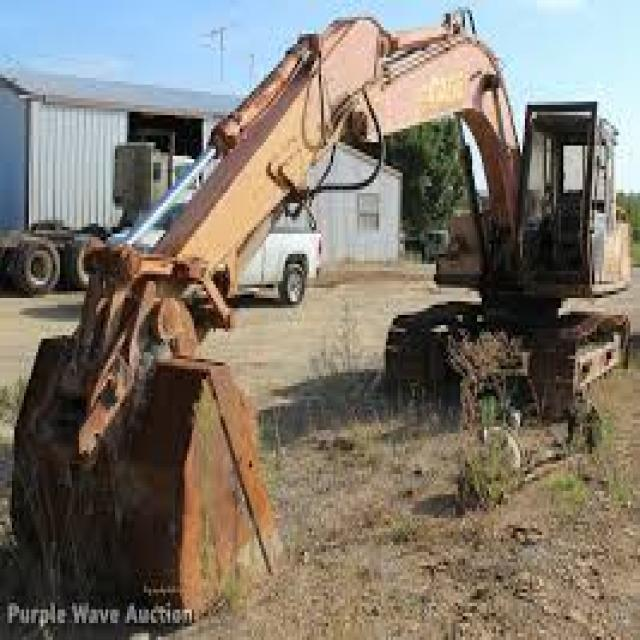excavator: (378, 89, 630, 468)
